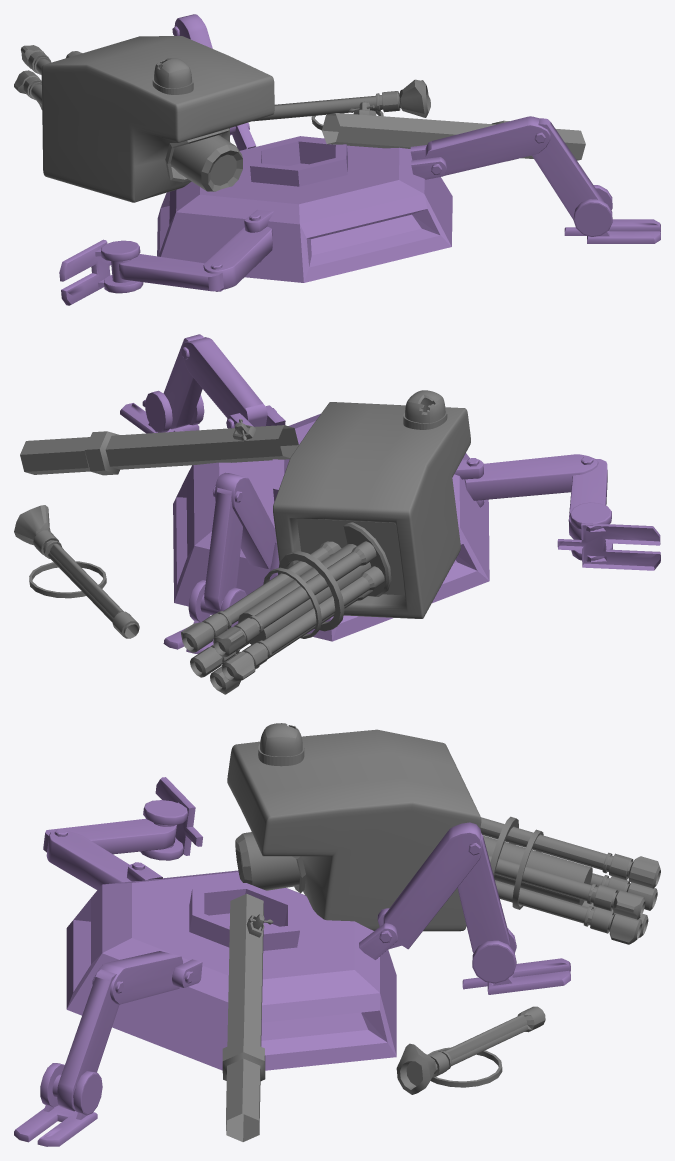
The model's file is BrokenTurret_low.fbx.
3 renders of one model, top to bottom at view 1: azimuth 30°, elevation 25°; view 2: azimuth 150°, elevation 25°; view 3: azimuth 270°, elevation 25°, orthographic. The views are drawn at different scales.
Visible parts, largest first — view 1: TurretBody; view 2: TurretBody; view 3: TurretBody.
Boxes of the visible parts, left/top/right/bottom form: TurretBody: left=14, top=14, right=660, bottom=305; TurretBody: left=14, top=334, right=660, bottom=694; TurretBody: left=14, top=723, right=660, bottom=1146.
Size of the model in its own units: 157 by 54.83 by 140.
